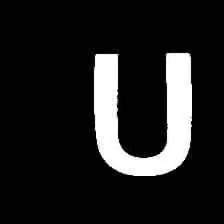LTR_U: (86, 38, 203, 183)
